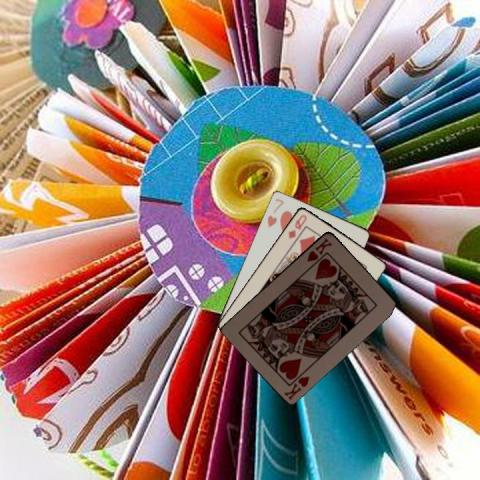7h: (264, 195, 285, 229)
Kh: (304, 235, 334, 263), (280, 372, 310, 400)
Qd: (284, 211, 308, 240)
